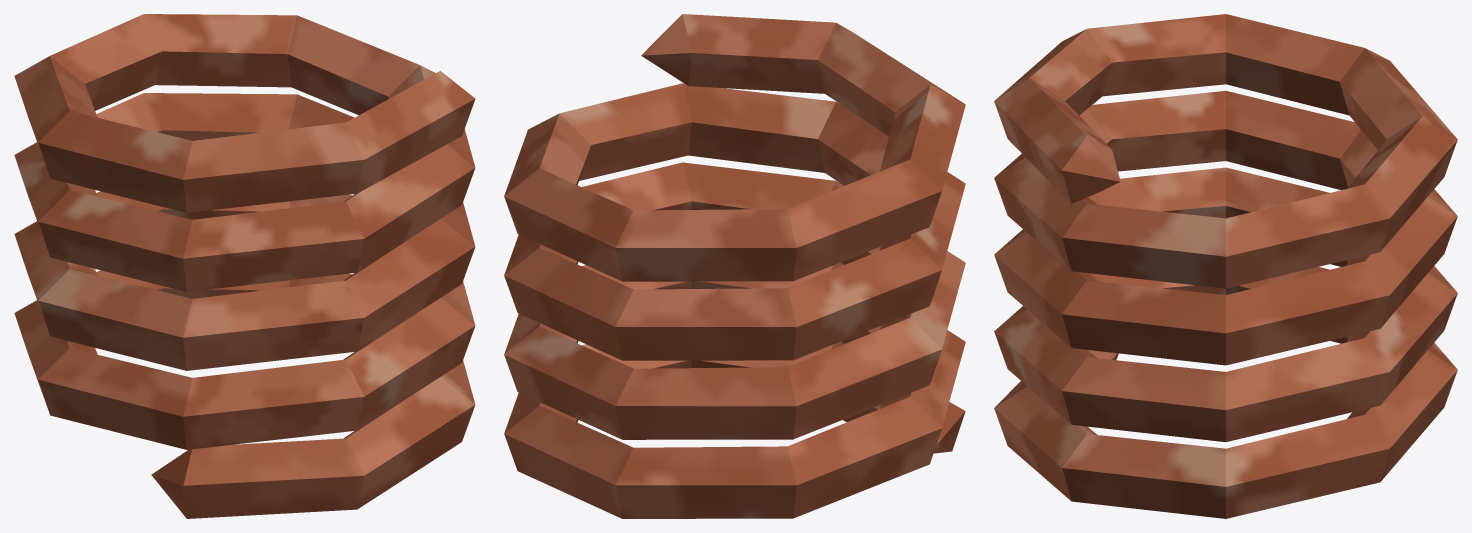
File: spring.fbx
3 views of the same model, side by side, from view 1: azimuth 30°, elevation 25°; view 2: azimuth 150°, elevation 25°; view 3: azimuth 270°, elevation 25° (orthographic). The views are drawn at different scales.
Visible parts, largest first — view 1: пружина; view 2: пружина; view 3: пружина.
Part boxes in pixels (<box>): пружина: <box>14,14,475,518</box>; пружина: <box>504,14,965,518</box>; пружина: <box>994,14,1457,518</box>.
Bounding box in the file's own units: 6.85 × 5.99 × 6.85.
